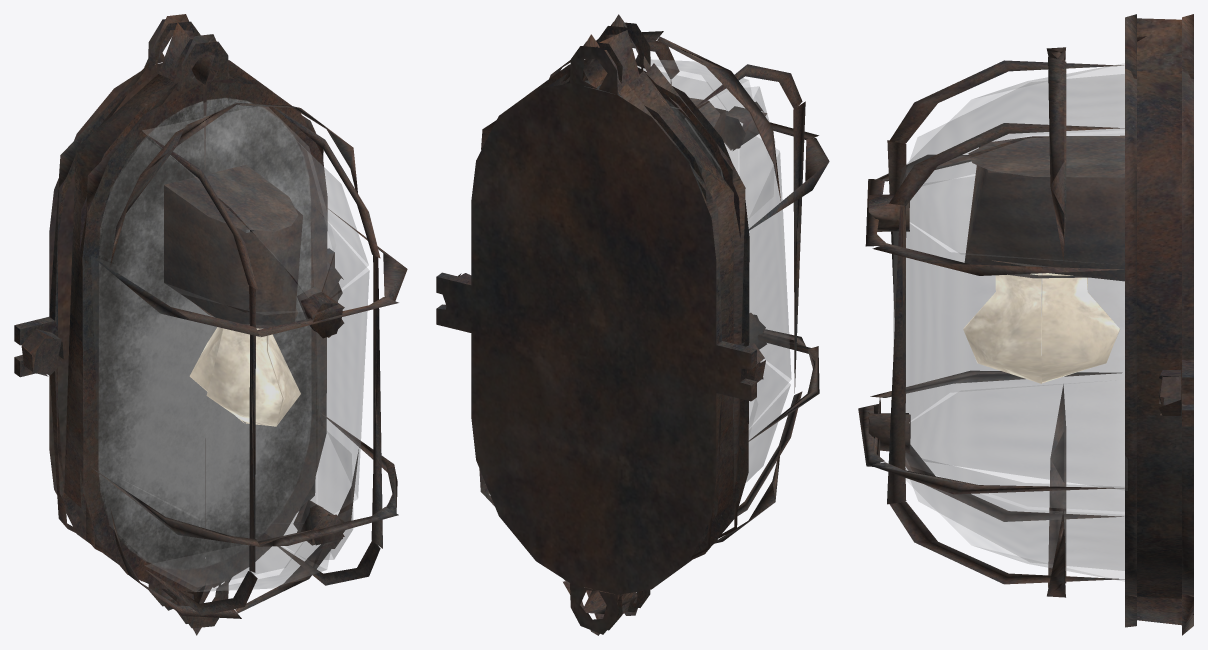
The model's file is wall_lamp_mobile.glb.
3 views of the same model, side by side, from view 1: azimuth 30°, elevation 25°; view 2: azimuth 150°, elevation 25°; view 3: azimuth 270°, elevation 25° (orthographic). The views are drawn at different scales.
Visible parts, largest first — view 1: wall_lamp; view 2: wall_lamp; view 3: wall_lamp.
Part boxes in pixels (bbox=[...]): wall_lamp: bbox=[14, 14, 407, 635]; wall_lamp: bbox=[436, 14, 829, 635]; wall_lamp: bbox=[858, 14, 1193, 635].
Size of the model in its own units: 0.28 by 0.5077 by 0.2497.
Materials: 2 (2 with a texture image).
